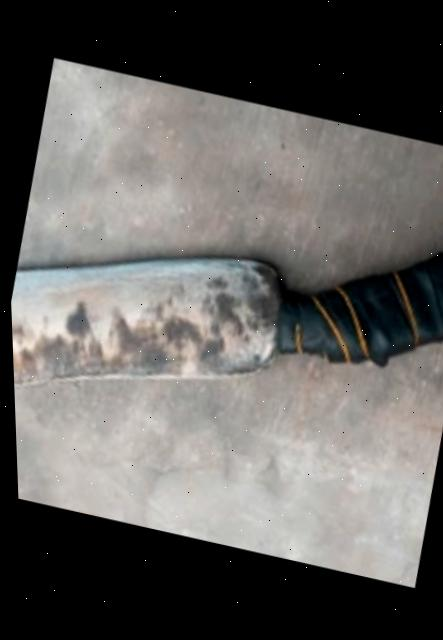long knife: (3, 94, 443, 553)
